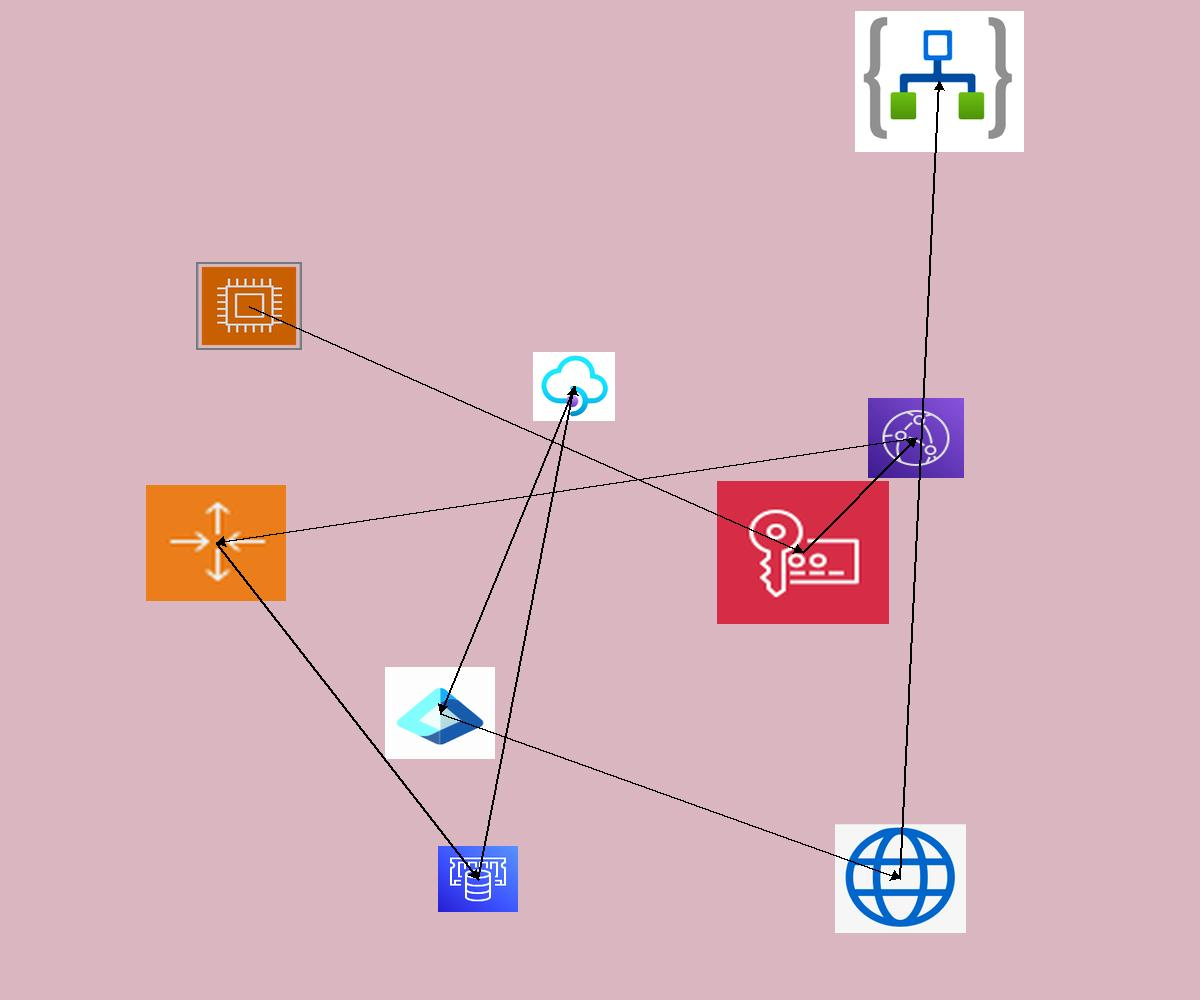AWS-Category_Compute: (196, 262, 302, 350)
AWS-CloudFront: (868, 398, 964, 478)
AWS-ElastiCache: (438, 846, 518, 912)
AWS-Key-Management-Service: (717, 481, 889, 624)
AWS-Scaling-group: (146, 485, 286, 601)
Azure_api_gateway: (533, 352, 615, 421)
Azure_http: (835, 824, 966, 933)
Azure_integration-204-Logic-Apps: (855, 11, 1024, 152)
Azure_microsoft_entra: (385, 667, 495, 759)
